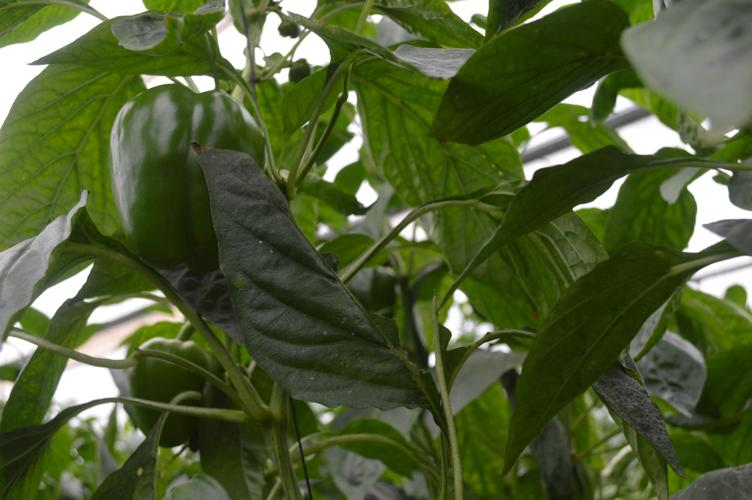BellPepper: (107, 85, 261, 266), (123, 338, 212, 447)
